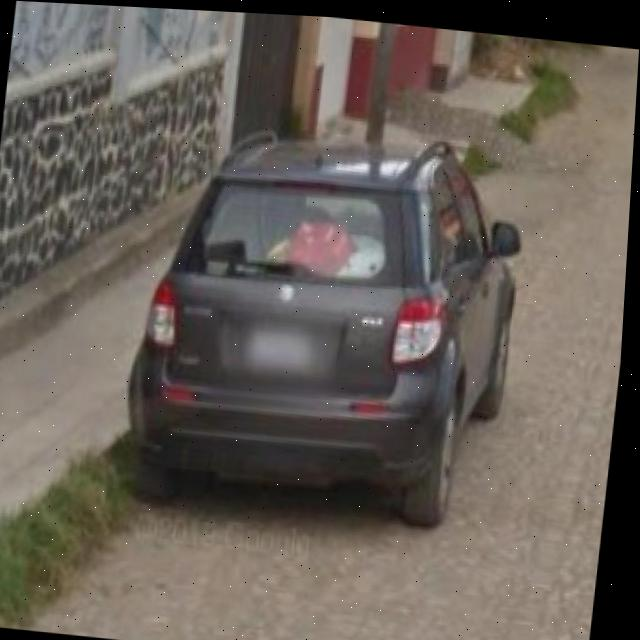vehicle: (135, 113, 522, 526)
